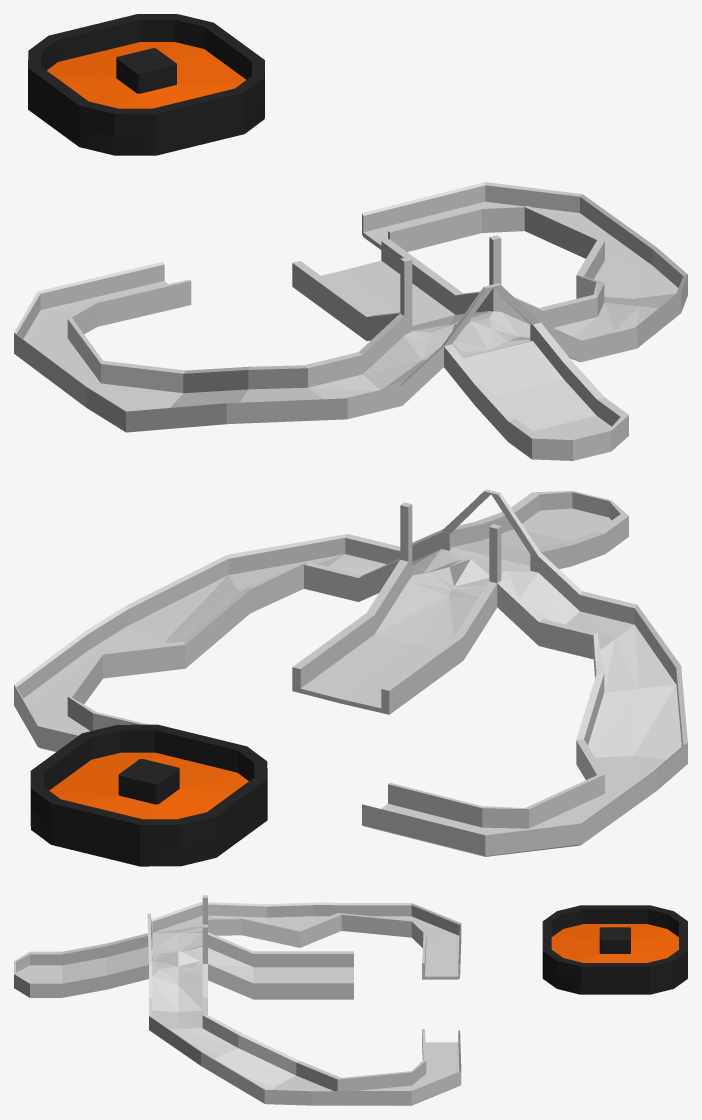
File: updated.FBX
3 renders of one model, top to bottom at view 1: azimuth 30°, elevation 25°; view 2: azimuth 150°, elevation 25°; view 3: azimuth 270°, elevation 25°, orthographic. The views are drawn at different scales.
Visible parts, largest first — view 1: Box001, Box002; view 2: Box001, Box002; view 3: Box001, Box002.
Boxes of the visible parts, x1,y1,x2,y2 form: Box001: (14, 182, 687, 460); Box002: (28, 14, 264, 155); Box001: (14, 489, 687, 856); Box002: (30, 724, 267, 866); Box001: (14, 895, 461, 1105); Box002: (542, 905, 687, 994).
Size of the model in its own units: 1094 by 274 by 1653.
